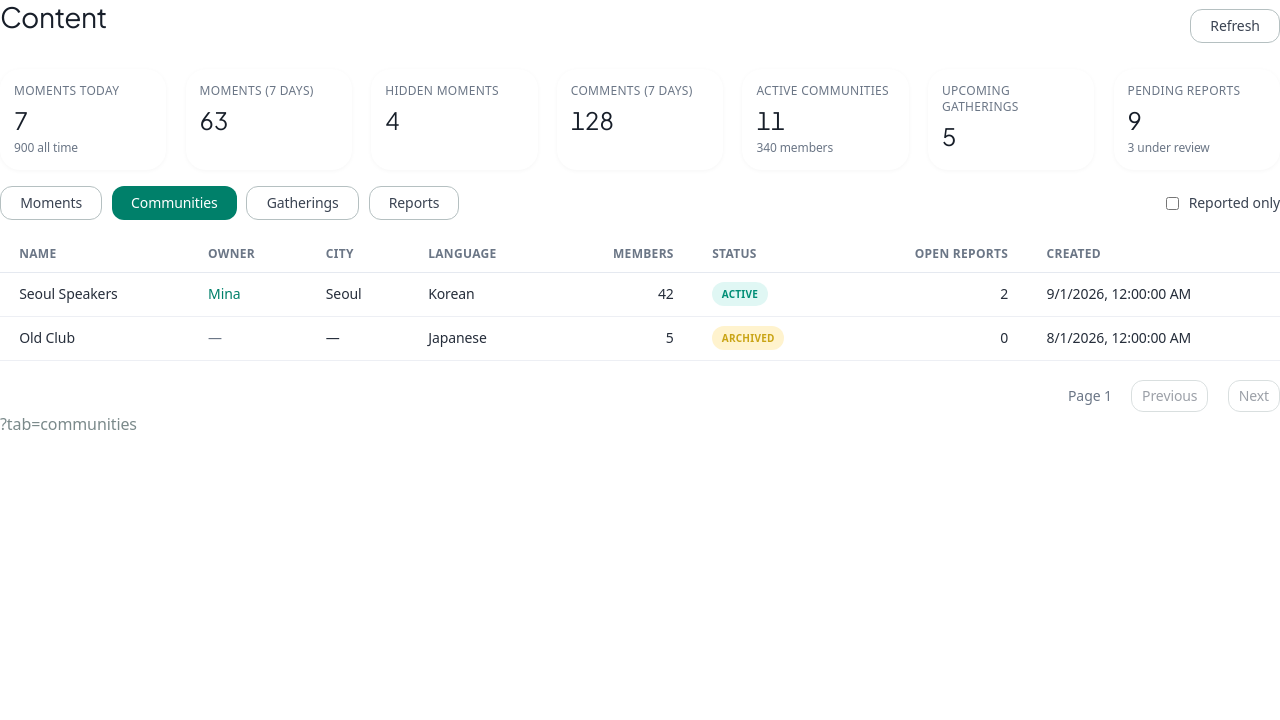
opens the community drawer on a row click and archives through it
Step 1. Click the button with test id "data-row" that starts with "Seoul Speakers" → (68,294), box [0,272,1279,316]
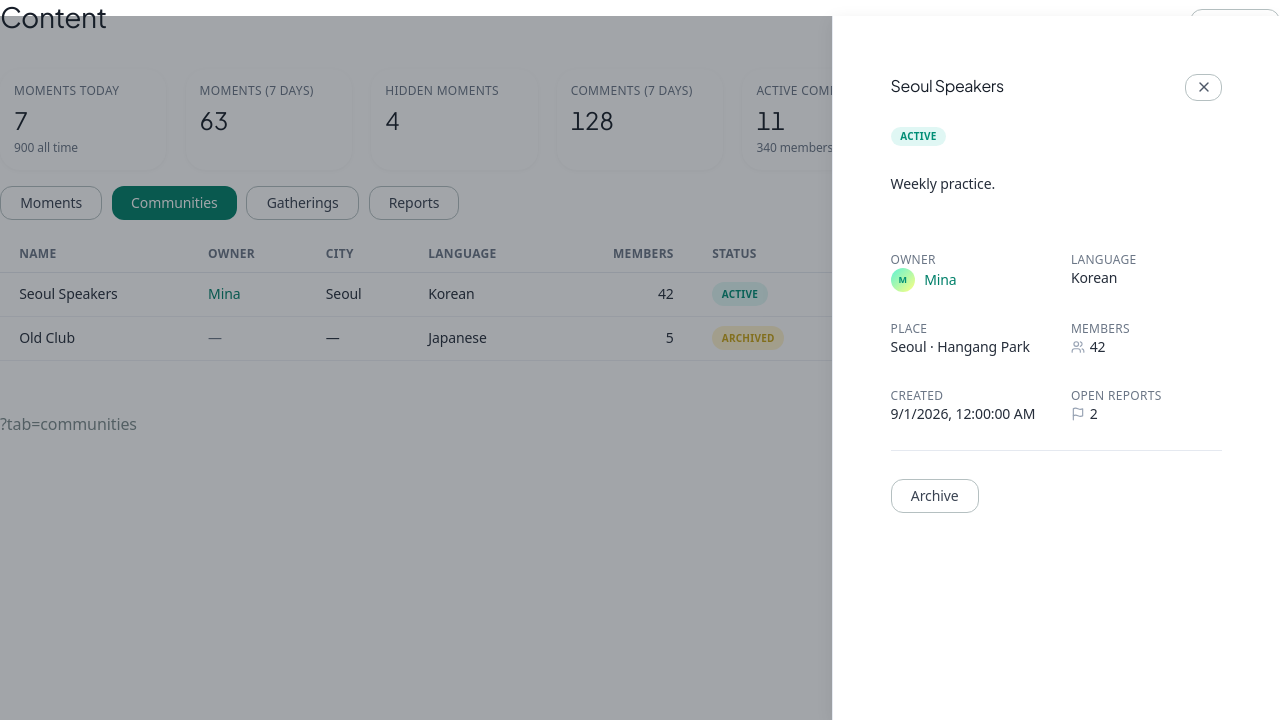
Expected: the dialog with test id "club-detail-drawer" is shown, [832,16,1279,719]
Step 2. Click the button with test id "club-archive" → (935,496), box [891,479,979,513]
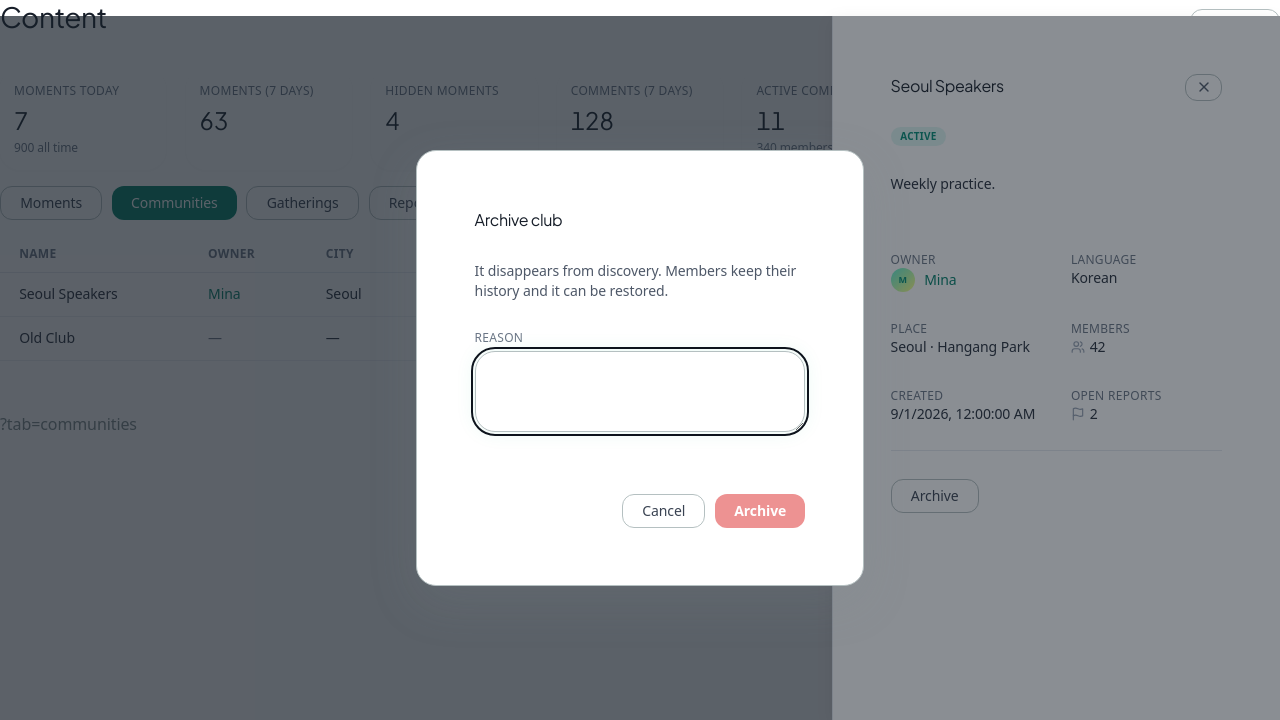
Step 3. Type "spam" into the text box with test id "confirm-dialog-reason" → (640,391), box [475,351,805,432]
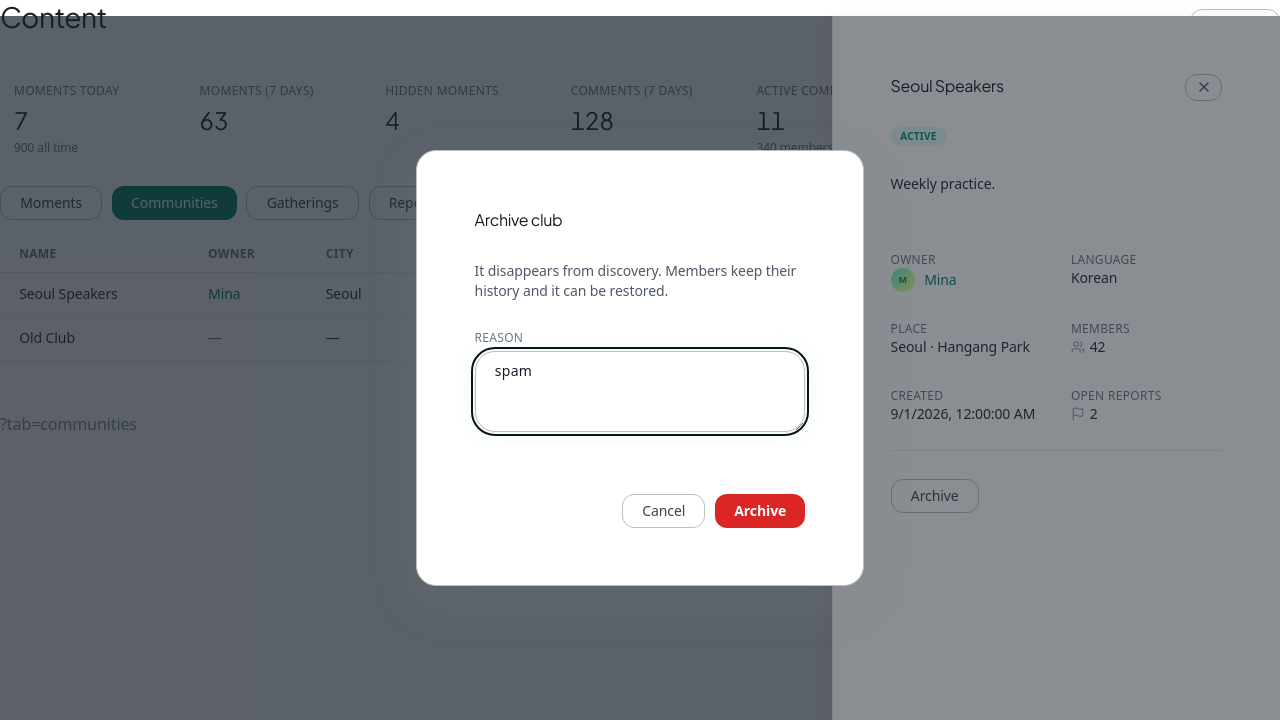
Step 4. Click the button with test id "confirm-dialog-confirm" → (760,511), box [715,494,805,528]
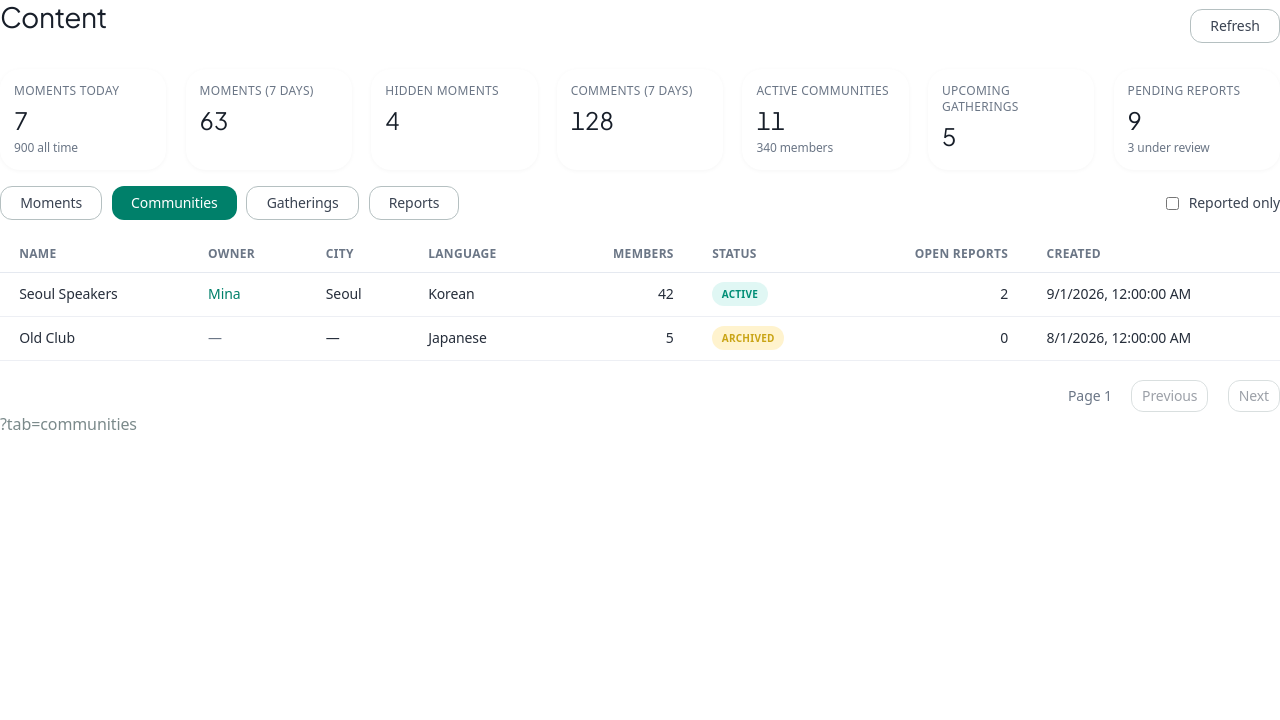
Expected: the dialog with test id "club-detail-drawer" is gone
